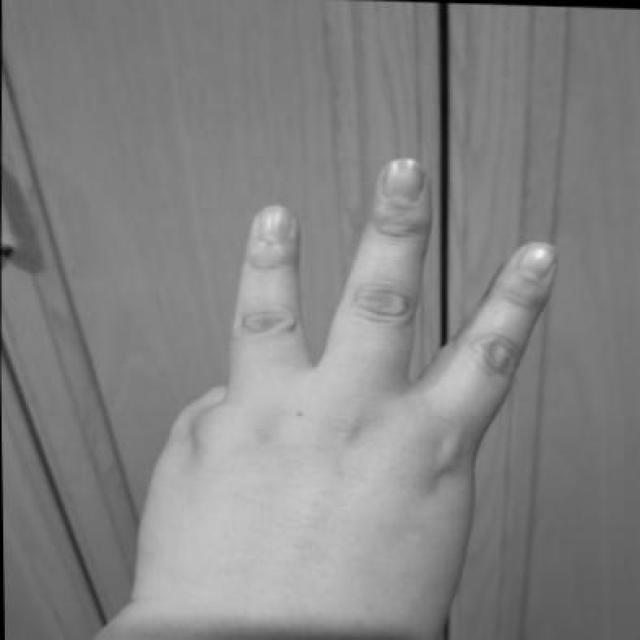W: (102, 140, 577, 638)
